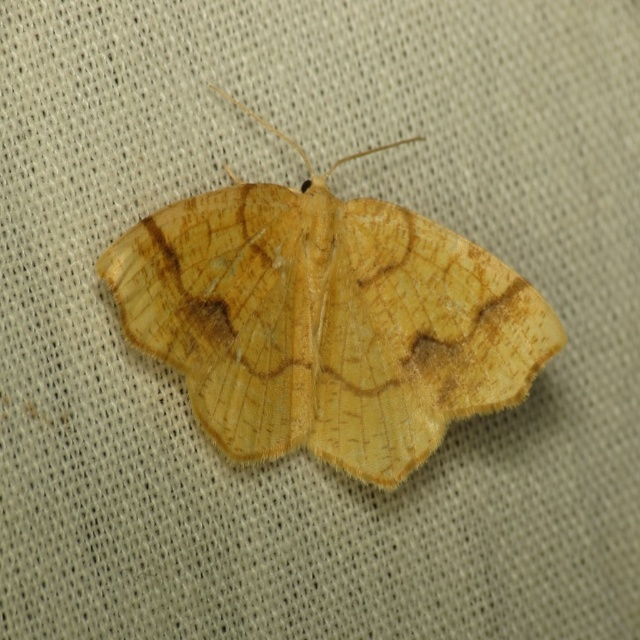Moths and butterflies: (92, 78, 572, 493)
